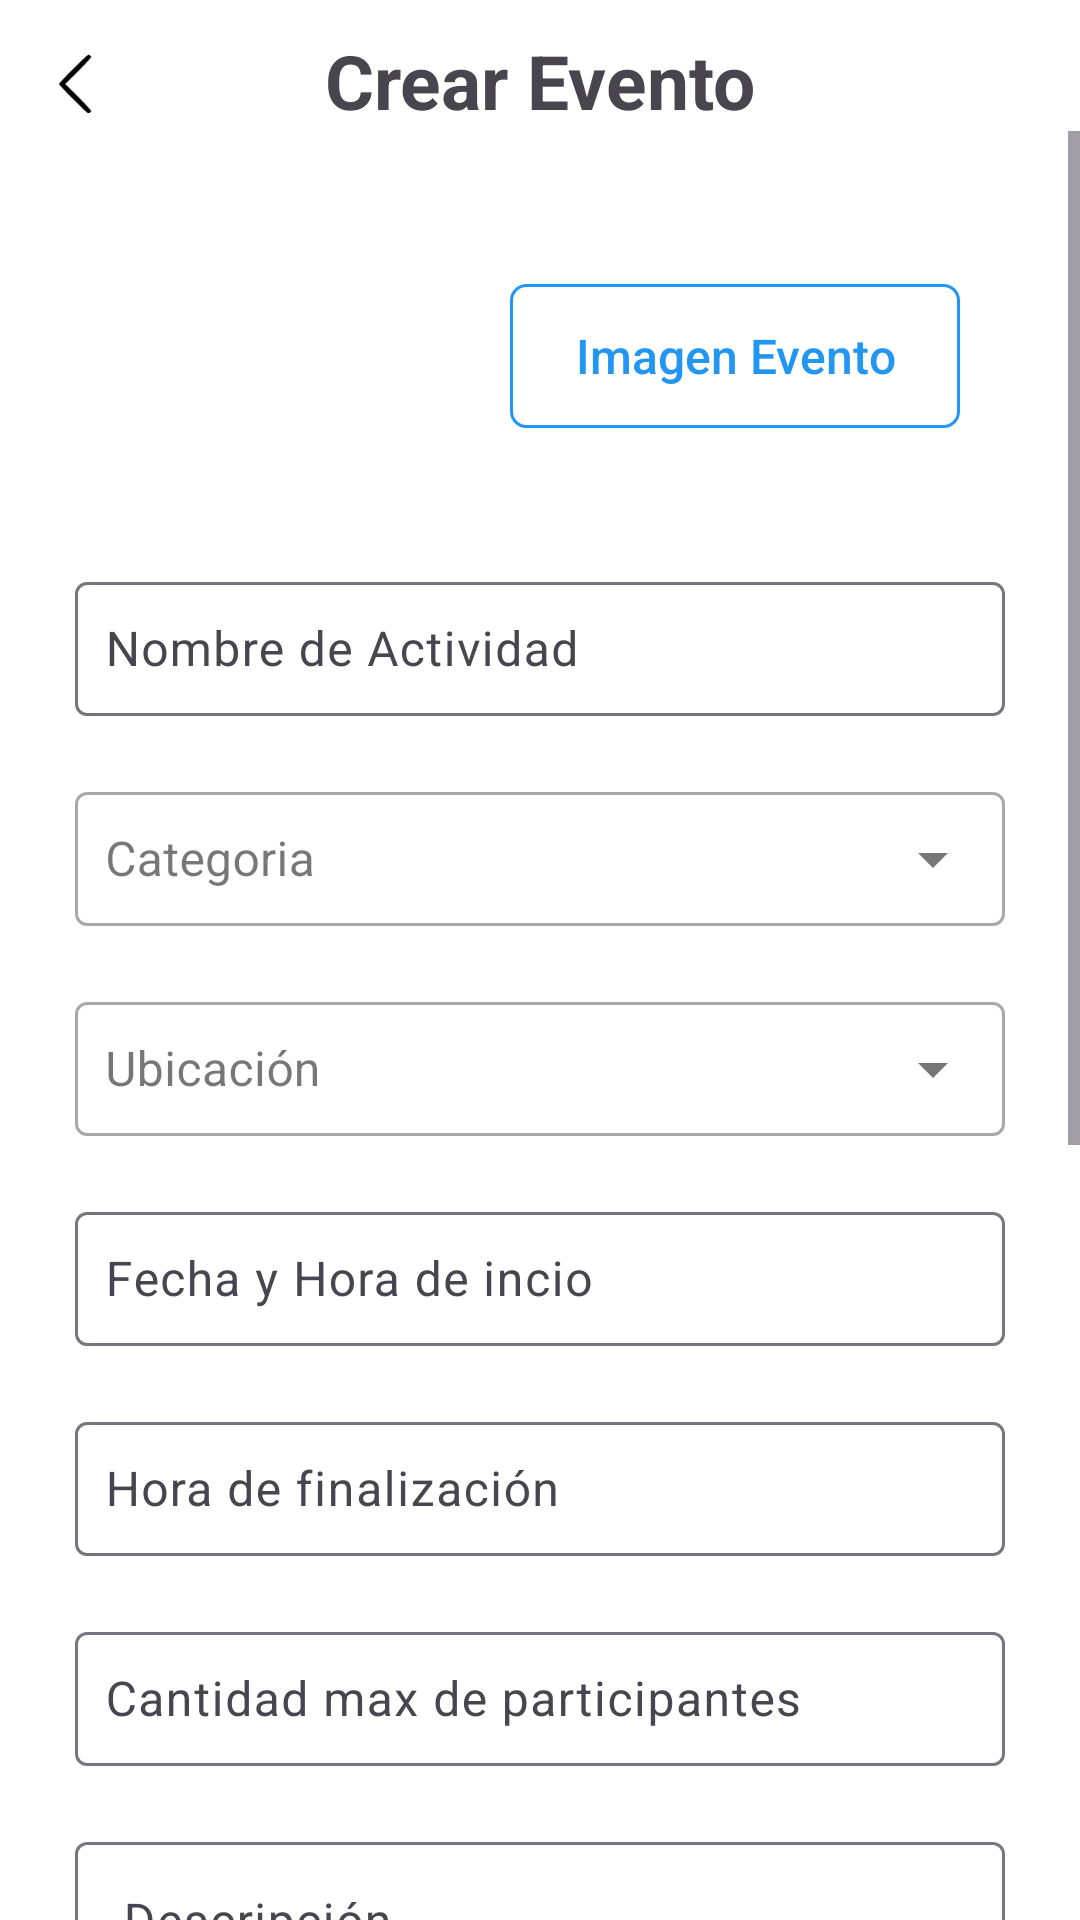

Where to tap for icons on this 1080px×1920px app screen, as [x,y]:
atras: [75,83]
